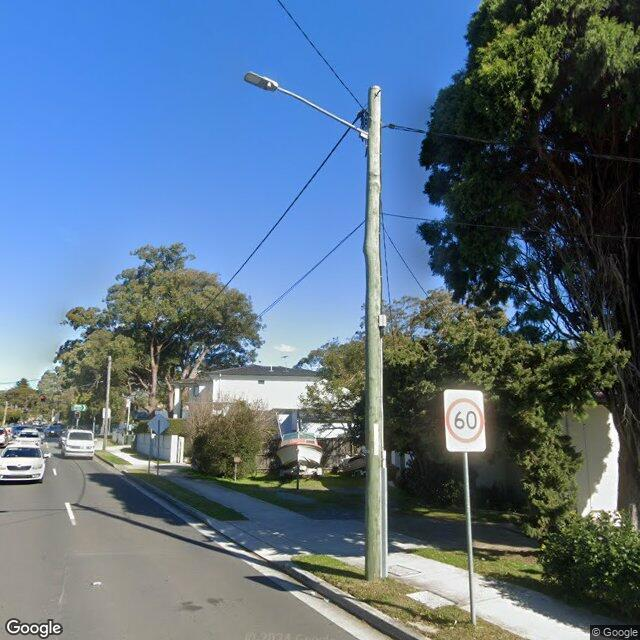streetlight: (243, 72, 369, 139)
timber-pole: (365, 85, 388, 581), (102, 355, 113, 450)
